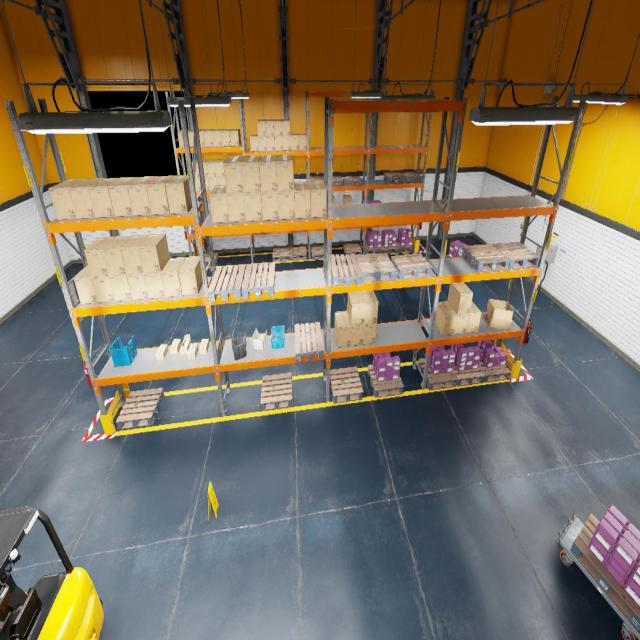box: (49, 179, 85, 220), (69, 178, 103, 219), (84, 236, 116, 277), (88, 178, 121, 217), (108, 176, 139, 217), (102, 235, 133, 276), (138, 234, 170, 273), (127, 176, 157, 216), (121, 234, 149, 274), (146, 176, 174, 214), (165, 175, 192, 214), (178, 256, 203, 295), (161, 257, 185, 297), (74, 265, 98, 304), (485, 299, 514, 330), (447, 282, 473, 314), (241, 155, 261, 193), (210, 185, 230, 223), (435, 301, 457, 335), (224, 156, 244, 193), (447, 301, 469, 334), (309, 181, 327, 217), (276, 154, 294, 190), (259, 156, 277, 192), (91, 276, 115, 302), (334, 311, 351, 347), (347, 292, 365, 326), (109, 275, 132, 301), (126, 273, 148, 300), (294, 181, 310, 218), (361, 290, 378, 324), (227, 193, 246, 222), (144, 272, 165, 298), (244, 191, 262, 221), (261, 191, 279, 220), (348, 314, 364, 346), (466, 301, 481, 332), (278, 190, 294, 219), (363, 324, 377, 344), (180, 334, 191, 354), (177, 130, 189, 147), (156, 344, 168, 360), (207, 160, 217, 178), (230, 128, 240, 146), (212, 130, 223, 146), (203, 130, 214, 146), (215, 160, 225, 177), (221, 129, 231, 146), (170, 339, 181, 354), (199, 338, 209, 354), (188, 343, 198, 359), (265, 120, 274, 136), (257, 120, 266, 136), (298, 133, 306, 150), (290, 133, 298, 150), (282, 119, 290, 136), (274, 119, 282, 136), (266, 136, 275, 151), (258, 136, 267, 151), (250, 135, 258, 151), (208, 177, 217, 191), (274, 136, 283, 150), (282, 136, 291, 150), (202, 160, 209, 177), (192, 160, 199, 177), (199, 130, 206, 146), (188, 130, 194, 147), (204, 178, 210, 192), (343, 195, 352, 204), (195, 178, 201, 191), (217, 176, 225, 185), (332, 196, 335, 205), (225, 176, 225, 184)
forklift: (0, 505, 103, 639)
pallets: (570, 514, 640, 633), (116, 388, 164, 430), (208, 264, 245, 302), (461, 244, 510, 272), (491, 242, 540, 268), (418, 358, 457, 390), (242, 262, 275, 299), (260, 372, 292, 410), (368, 364, 403, 398), (330, 367, 363, 403), (356, 253, 396, 282), (391, 253, 432, 280), (295, 322, 323, 361), (331, 254, 362, 286), (478, 359, 511, 382), (453, 365, 484, 386), (343, 243, 362, 256), (272, 248, 290, 261), (400, 172, 422, 182), (383, 173, 405, 183), (396, 241, 414, 253), (363, 243, 382, 254), (290, 247, 306, 260), (343, 176, 363, 186), (381, 243, 398, 254), (204, 253, 218, 266), (311, 246, 323, 259), (191, 222, 203, 234), (333, 176, 343, 186), (310, 176, 324, 181), (444, 254, 450, 258)
